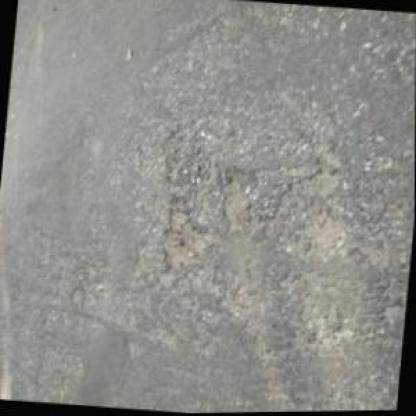pothole: (158, 208, 215, 272), (215, 166, 250, 228)
